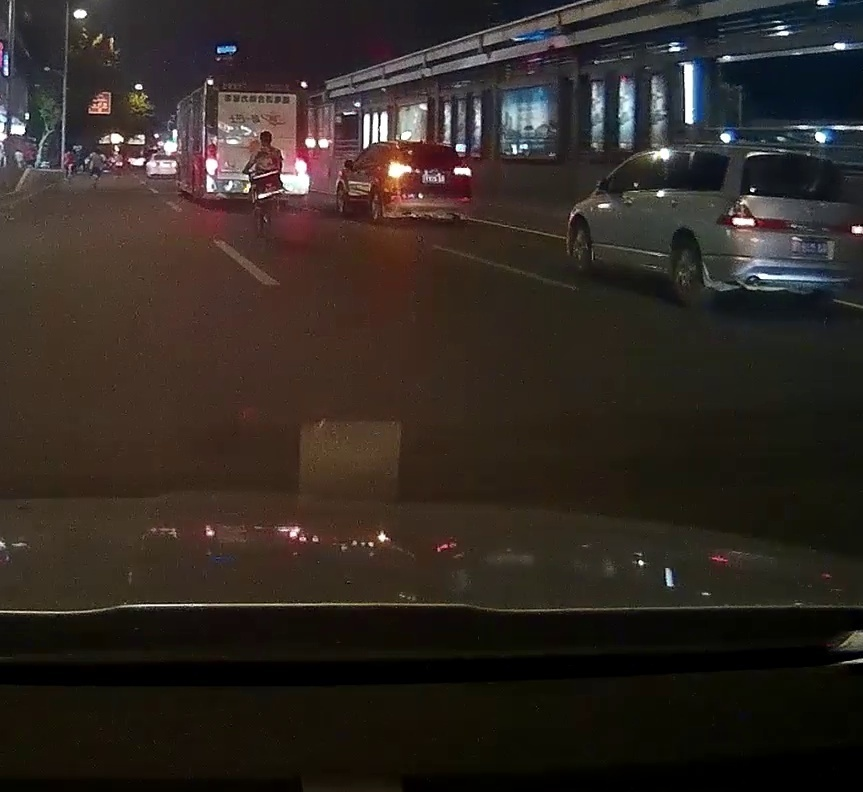L_light: (716, 199, 759, 229), (207, 144, 217, 174), (389, 165, 411, 175)
R_light: (297, 145, 308, 174), (452, 167, 471, 176), (850, 225, 863, 234)
T_light: (787, 158, 811, 164), (246, 84, 264, 88), (420, 146, 435, 150)
night-no: (714, 149, 863, 312), (205, 78, 309, 207), (387, 141, 472, 225)
